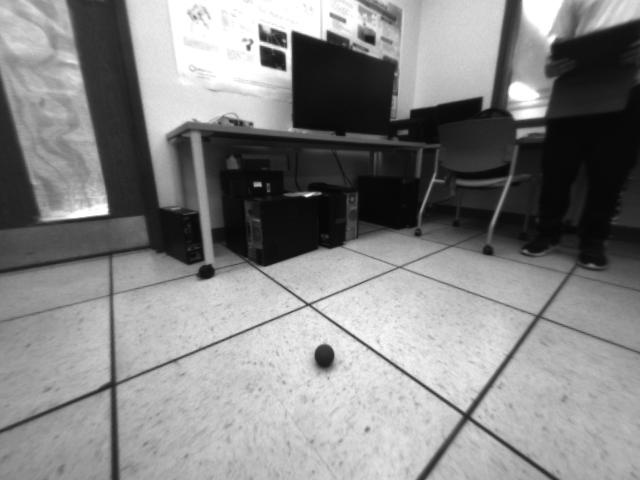dogtoy: (311, 341, 342, 374)
